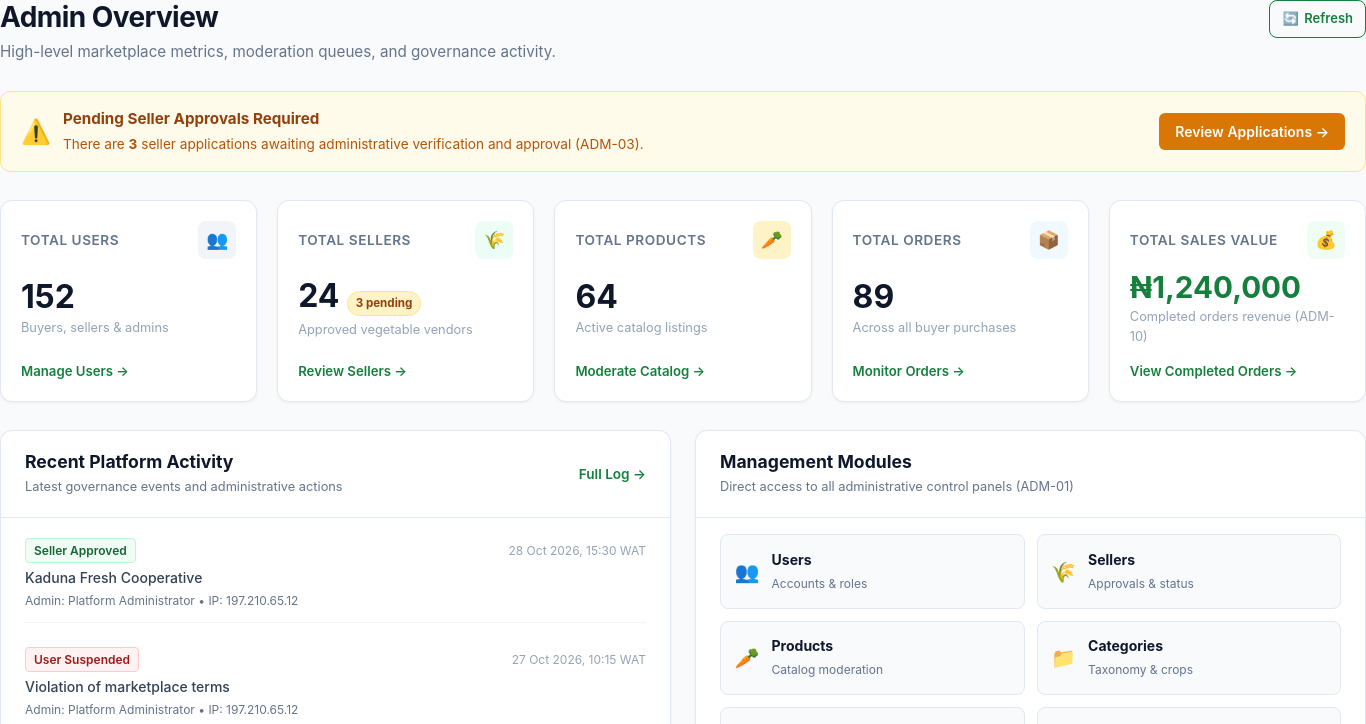
Scenario: FE-096 / ADM-10: Admin Overview Dashboard › 5. Error Handling & Retry Logic › displays non-blocking error banner if refresh fails when stats are already loaded
Expected: the text with test id "stat-users-count" reads "152", [21,277,75,316]
Click the button with test id "admin-overview-refresh-btn" at (1318, 19), box [1270,0,1365,38]
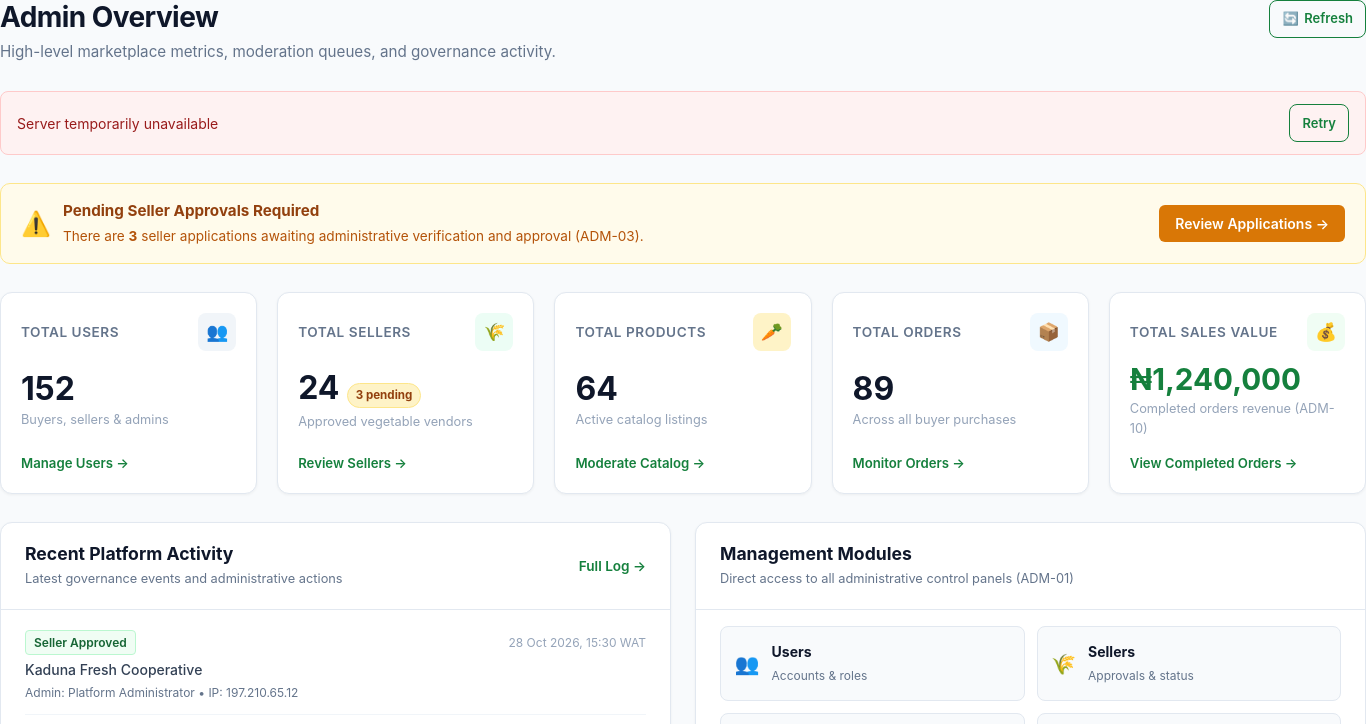
Expected: the text with test id "stat-users-count" reads "152", [21,369,75,408]
Expected: the message "Server temporarily unavailable Retry" is shown, [0,91,1365,155]
